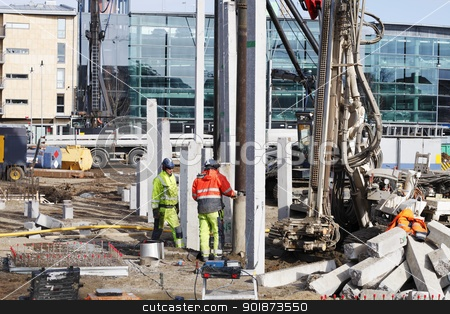blue: (161, 157, 175, 174), (202, 158, 218, 172)
